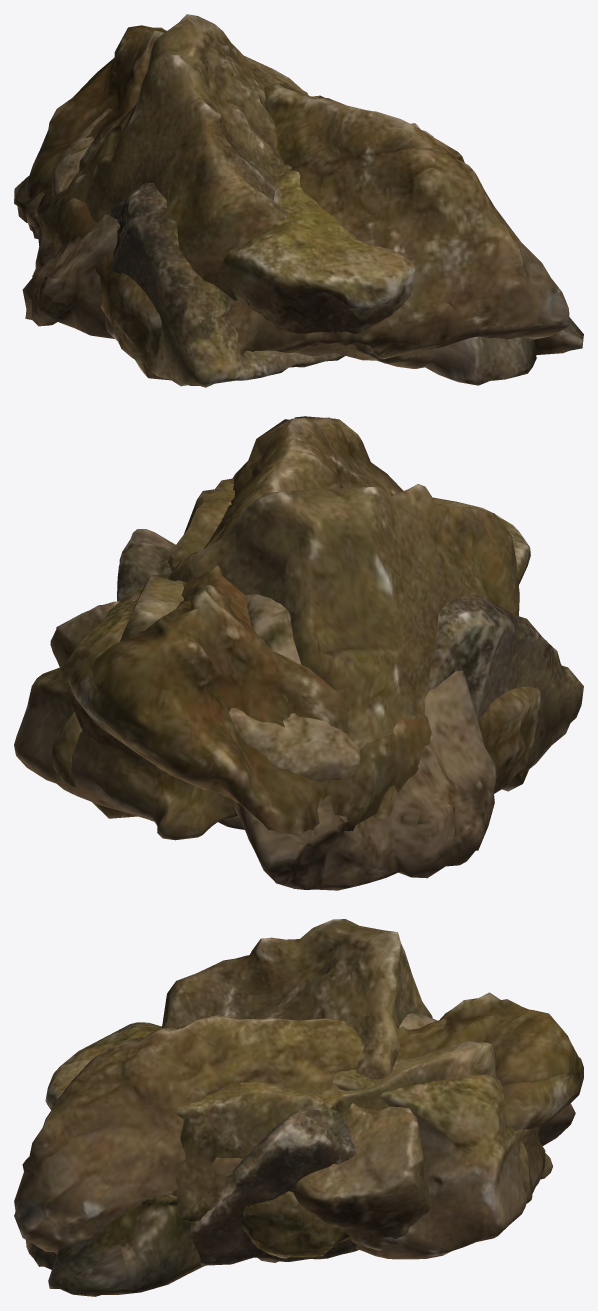
File: rock_moss_set_01.glb
3 renders of one model, top to bottom at view 1: azimuth 30°, elevation 25°; view 2: azimuth 150°, elevation 25°; view 3: azimuth 270°, elevation 25°, orthographic. The views are drawn at different scales.
Parts seen in each view (by area): view 1: rock_moss_set_01_rock01, rock_moss_set_01_rock04, rock_moss_set_01_rock05, rock_moss_set_01_rock03, rock_moss_set_01_rock02, rock_moss_set_01_rock06; view 2: rock_moss_set_01_rock01, rock_moss_set_01_rock04, rock_moss_set_01_rock02, rock_moss_set_01_rock05, rock_moss_set_01_rock03, rock_moss_set_01_rock06; view 3: rock_moss_set_01_rock01, rock_moss_set_01_rock04, rock_moss_set_01_rock05, rock_moss_set_01_rock06, rock_moss_set_01_rock02, rock_moss_set_01_rock03.
Boxes of the visible parts, bbox=[...] form: rock_moss_set_01_rock01: bbox=[26, 25, 569, 380]; rock_moss_set_01_rock04: bbox=[54, 14, 324, 300]; rock_moss_set_01_rock05: bbox=[51, 91, 416, 356]; rock_moss_set_01_rock03: bbox=[105, 123, 433, 387]; rock_moss_set_01_rock02: bbox=[14, 176, 583, 385]; rock_moss_set_01_rock06: bbox=[244, 56, 436, 368]; rock_moss_set_01_rock01: bbox=[68, 416, 540, 846]; rock_moss_set_01_rock04: bbox=[50, 484, 519, 820]; rock_moss_set_01_rock02: bbox=[234, 594, 496, 890]; rock_moss_set_01_rock05: bbox=[14, 497, 530, 840]; rock_moss_set_01_rock03: bbox=[117, 529, 583, 829]; rock_moss_set_01_rock06: bbox=[51, 478, 234, 818]; rock_moss_set_01_rock01: bbox=[14, 992, 583, 1262]; rock_moss_set_01_rock04: bbox=[162, 919, 432, 1250]; rock_moss_set_01_rock05: bbox=[45, 1022, 552, 1259]; rock_moss_set_01_rock06: bbox=[172, 1041, 532, 1258]; rock_moss_set_01_rock02: bbox=[26, 1012, 575, 1296]; rock_moss_set_01_rock03: bbox=[189, 1108, 358, 1265].
Size of the model in its own units: 2.65 by 1.77 by 3.36.
1 material, 1 textured.
